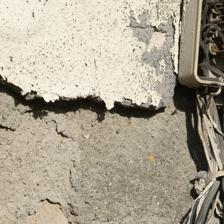Crack: (2, 72, 167, 123)
